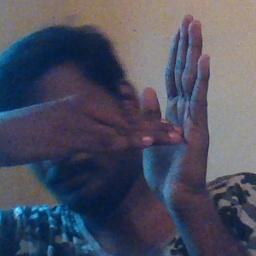Z: (97, 14, 213, 194)
